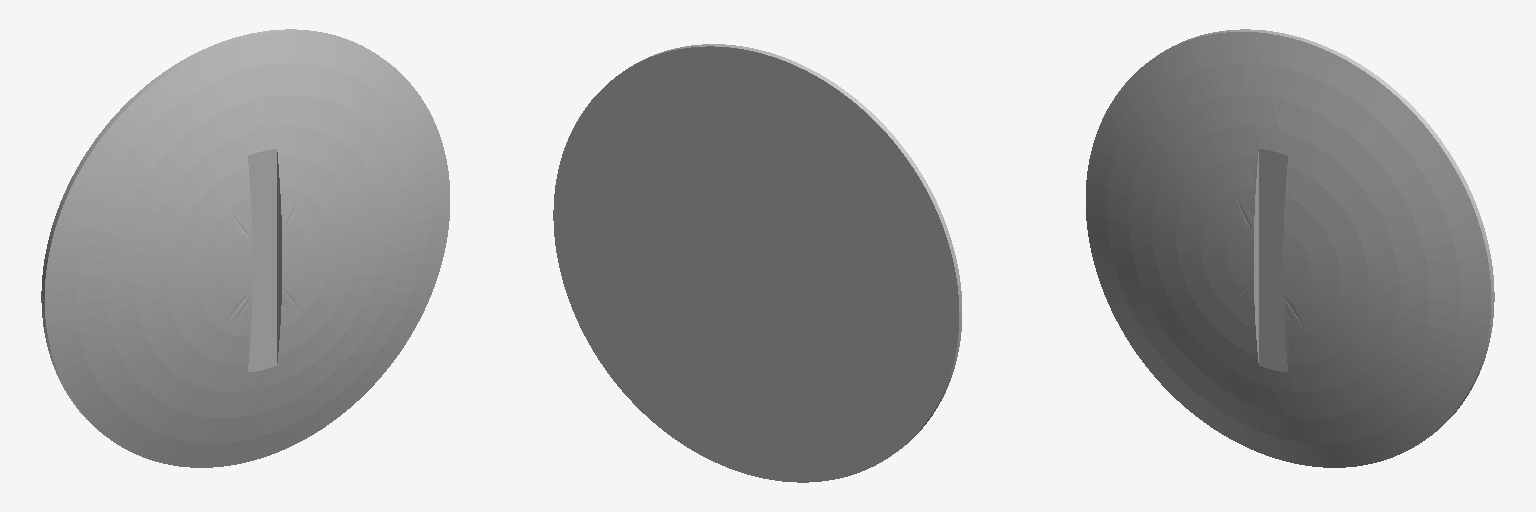
The model's file is screw_FRONT1.obj.
3 renders of one model, left to right at view 1: azimuth 30°, elevation 25°; view 2: azimuth 150°, elevation 25°; view 3: azimuth 330°, elevation 25°, orthographic.
Parts seen in each view (by area): view 1: screw_FRONT1; view 2: screw_FRONT1; view 3: screw_FRONT1.
Part boxes in pixels (x1,y1,x2,y2): screw_FRONT1: (41, 29, 449, 467); screw_FRONT1: (553, 44, 961, 482); screw_FRONT1: (1086, 29, 1494, 467).
Bounding box in the file's own units: 11 × 11 × 1.09.